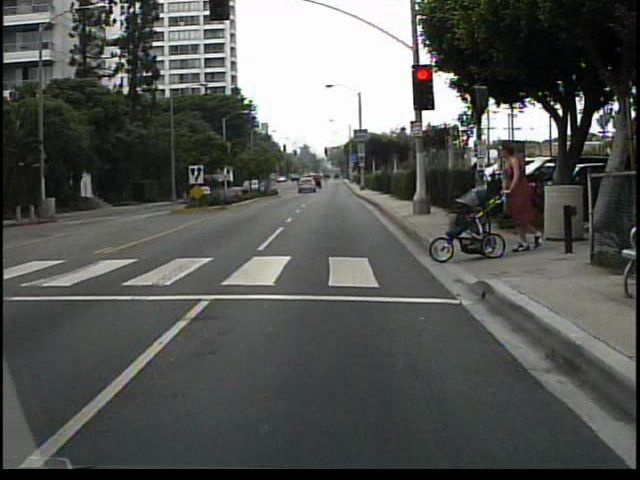person: (494, 144, 550, 258)
